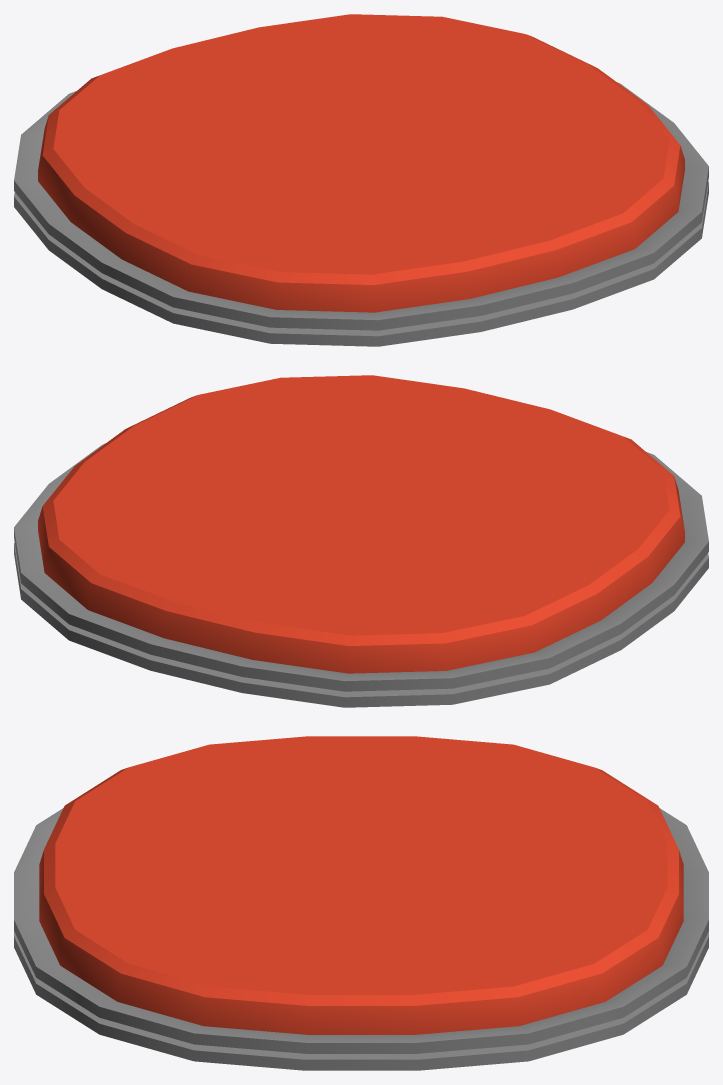
The model's file is button.fbx.
The picture shows the model from 3 angles, top to bottom: view 1: azimuth 30°, elevation 25°; view 2: azimuth 150°, elevation 25°; view 3: azimuth 270°, elevation 25°; orthographic projection. The views are drawn at different scales.
Parts seen in each view (by area): view 1: btn_trigger, btn_body; view 2: btn_trigger, btn_body; view 3: btn_trigger, btn_body.
Boxes of the visible parts, left/top/right/bottom form: btn_trigger: left=38, top=14, right=684, bottom=312; btn_body: left=14, top=82, right=708, bottom=346; btn_trigger: left=38, top=375, right=684, bottom=673; btn_body: left=14, top=443, right=708, bottom=707; btn_trigger: left=39, top=736, right=683, bottom=1034; btn_body: left=14, top=808, right=708, bottom=1070.
Bounding box in the file's own units: 400 × 37.08 × 400.
